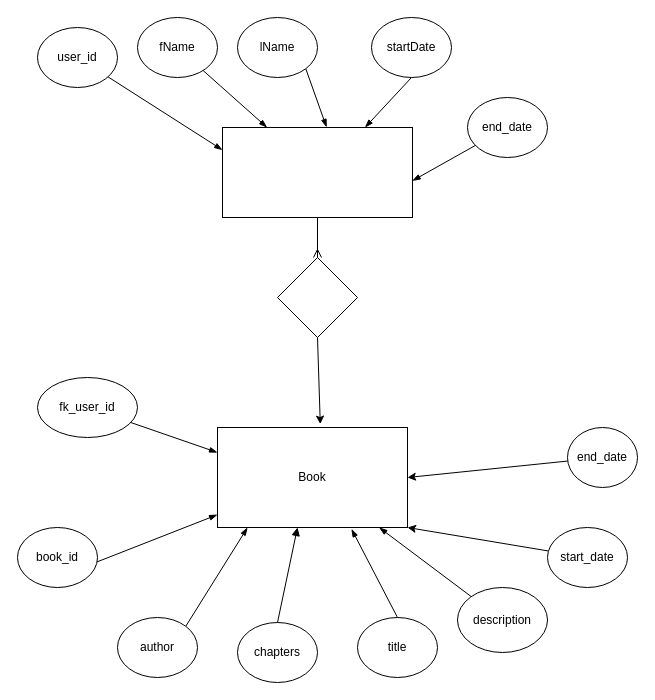
This 655x700 diagram has some shape labels left out. The shapes that lost their labels are listed below. From the top down, each one's centre as x and y in pixels, then its label:
At (x=317, y=172): "user".
At (x=317, y=297): "read".
